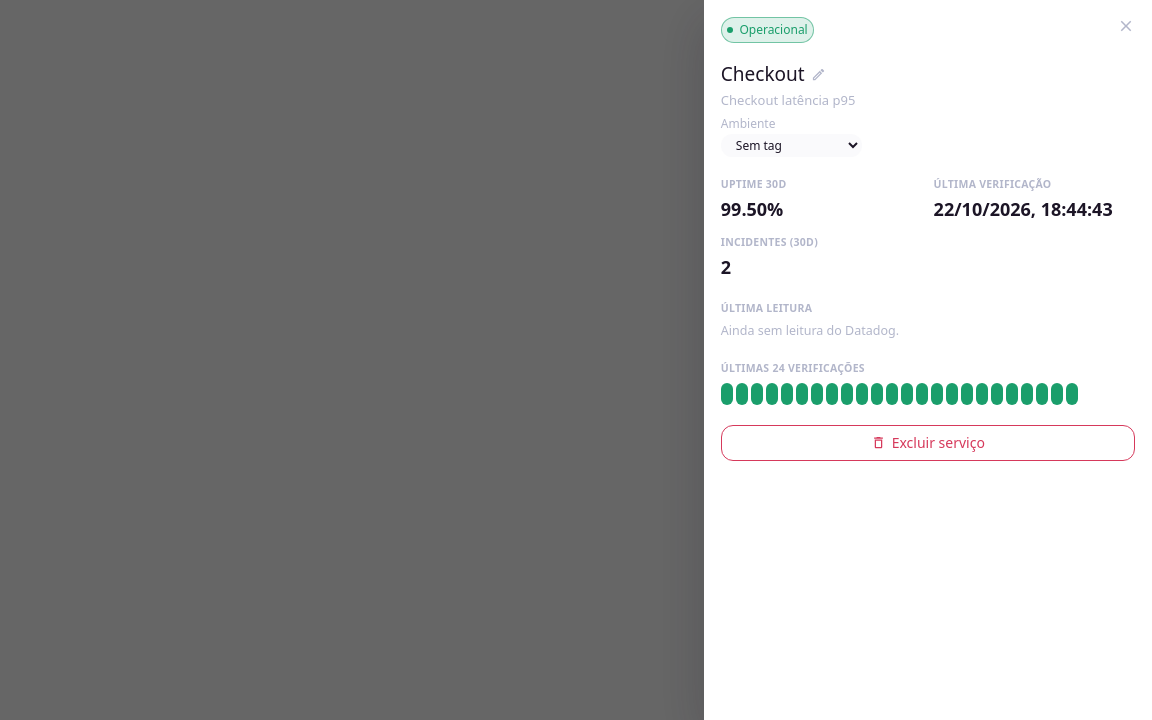
Test: ServiceDetailDrawer › blocked delete (409) shows an error and does not close the drawer
This screenshot has width=1152, height=720.
Expected: the heading "Checkout" is shown, 721,60 -> 805,88
Click the button "Excluir serviço": (928, 442) 721,424 -> 1135,460
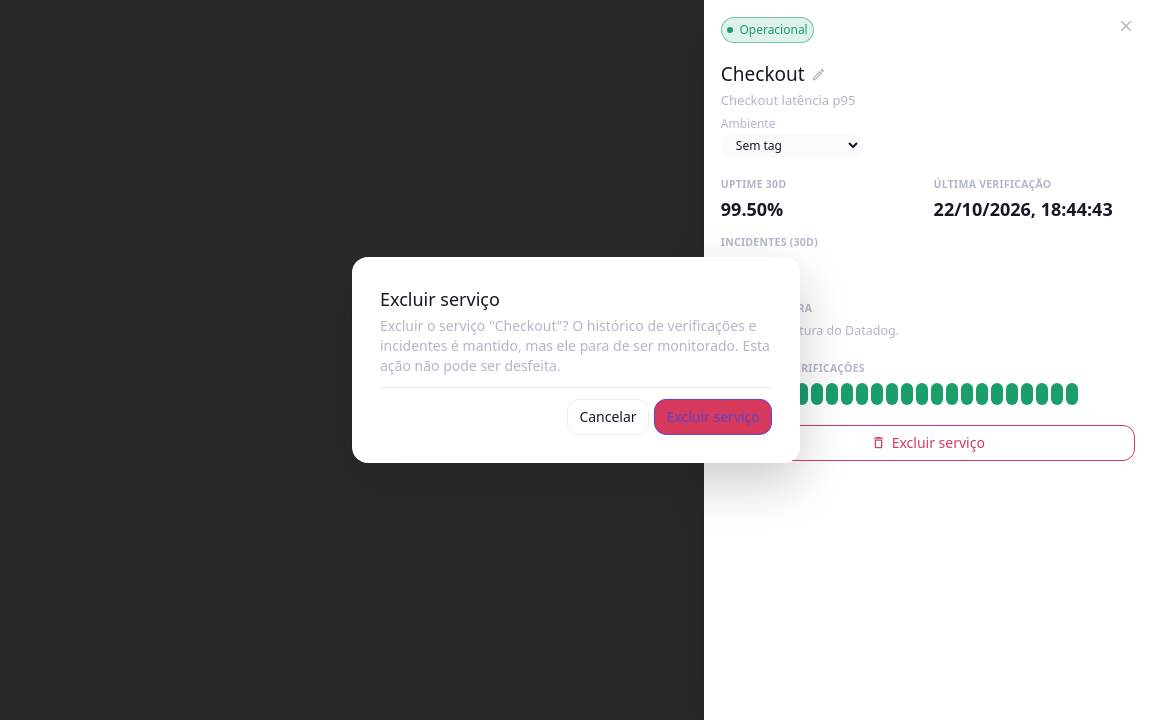
Click the button "Excluir serviço": (713, 417) 654,399 -> 772,435
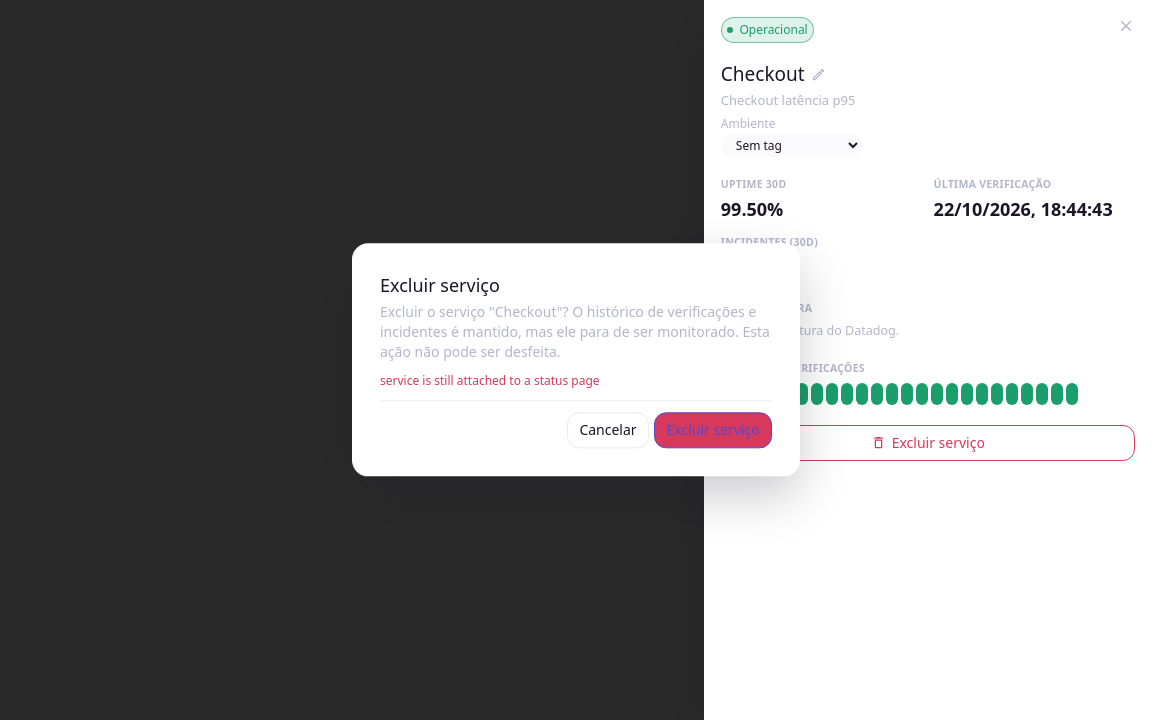
Expected: the text "service is still attached to a status page" is shown, 380,372 -> 600,389
